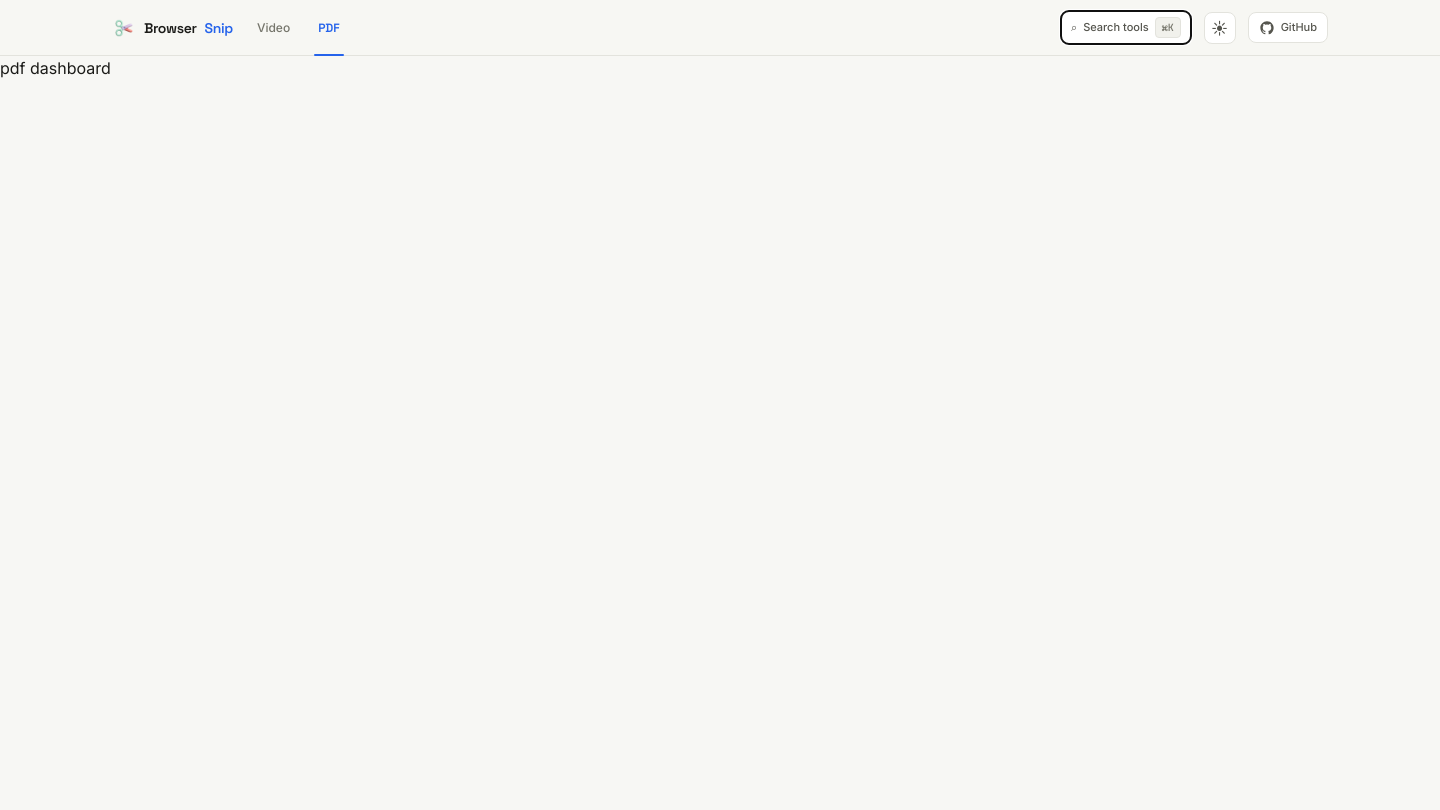
Test: command palette › leaves the caret on a real control after it closes on a selection
Click the button "⌕ Search tools ⌘K": (1126, 28) 1060,10 -> 1192,45
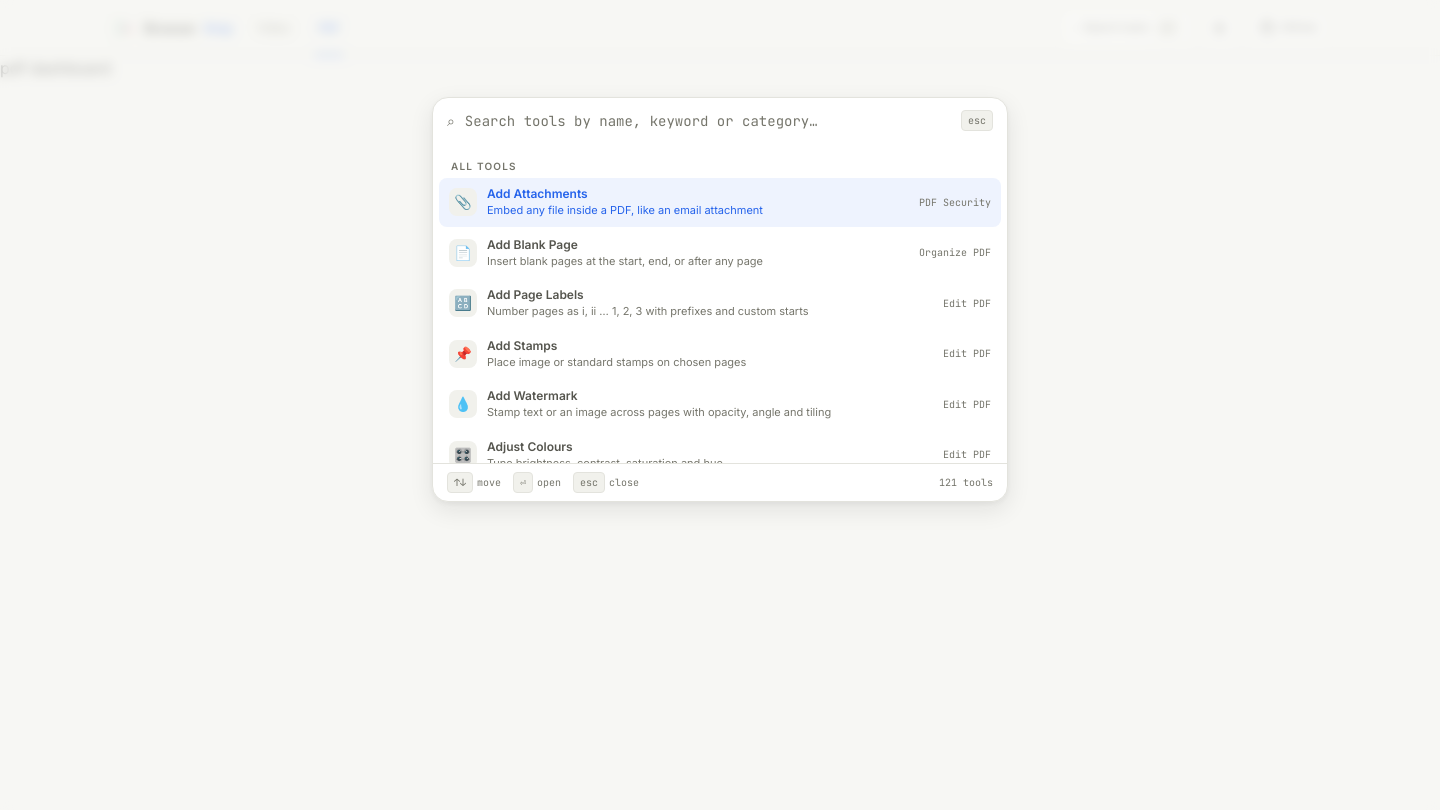
In the dropdown labelled "Search tools": (708, 121) 465,111 -> 951,131, type "merge"
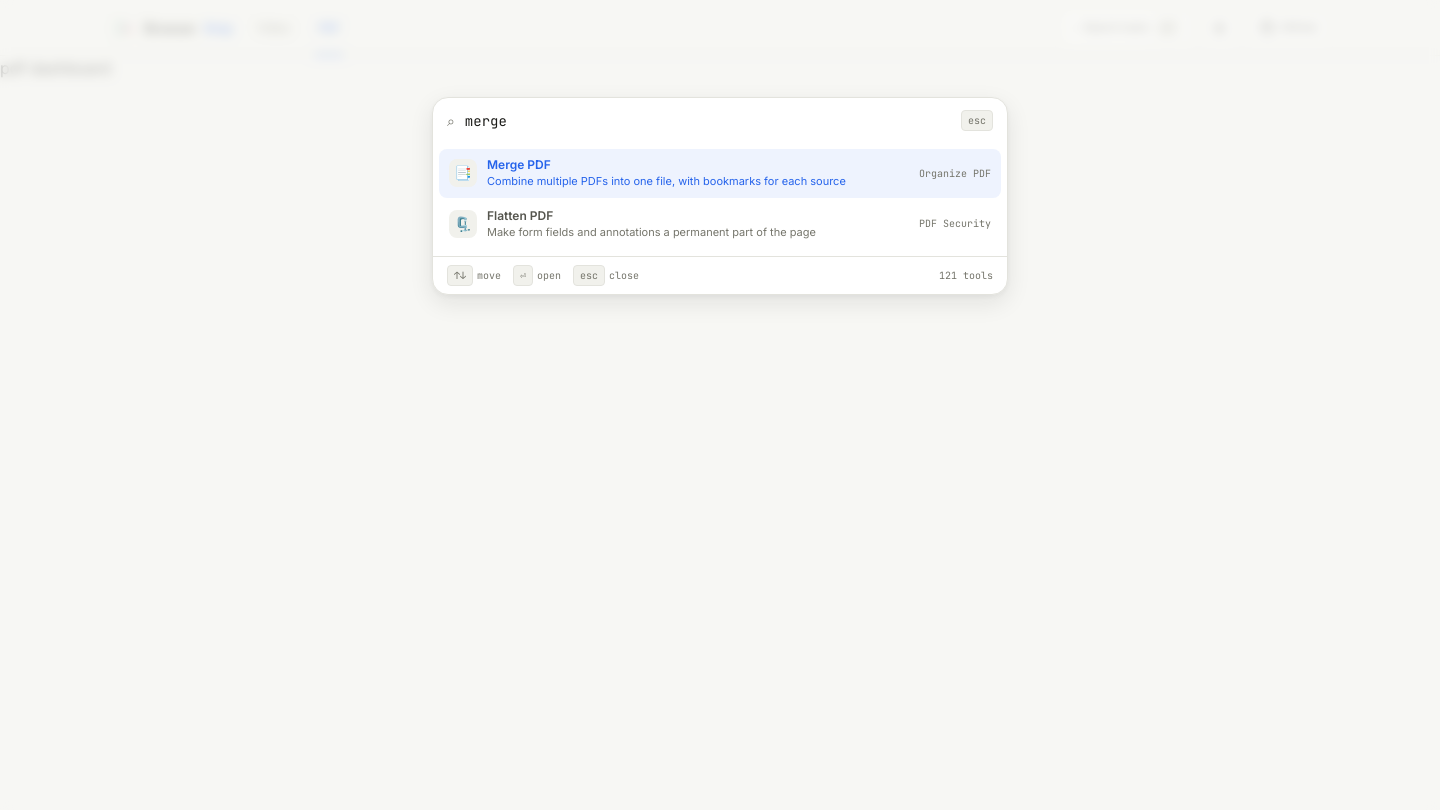
Check: the option with aria-label "Combine multiple PDFs into one file, with bookmarks for each" is shown, box 439,149 -> 1001,198
Press Enter in the dropdown named "Search tools", box 465,111 -> 951,131
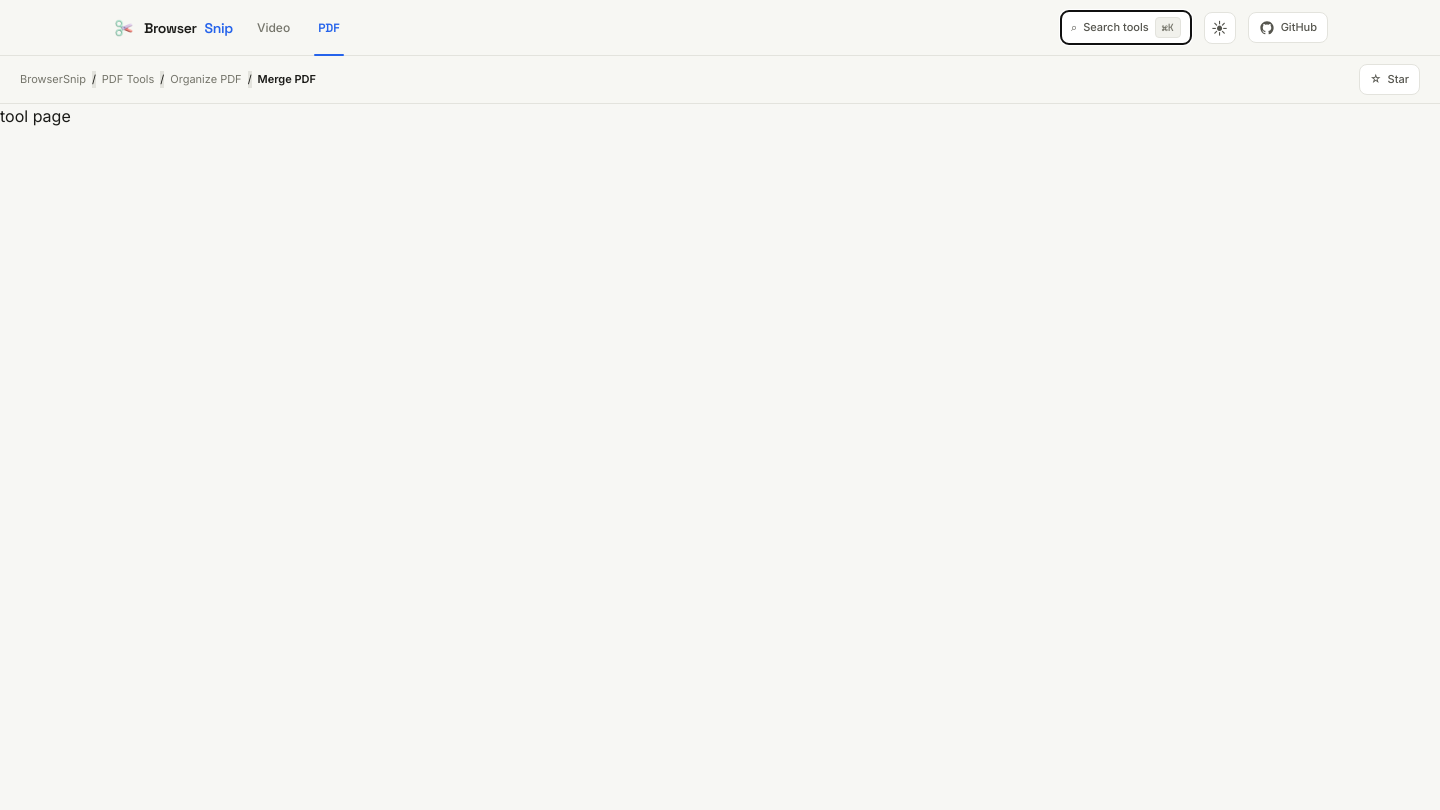
Check: the dialog is gone
Check: the text "tool page" is shown, box 0,106 -> 71,126
